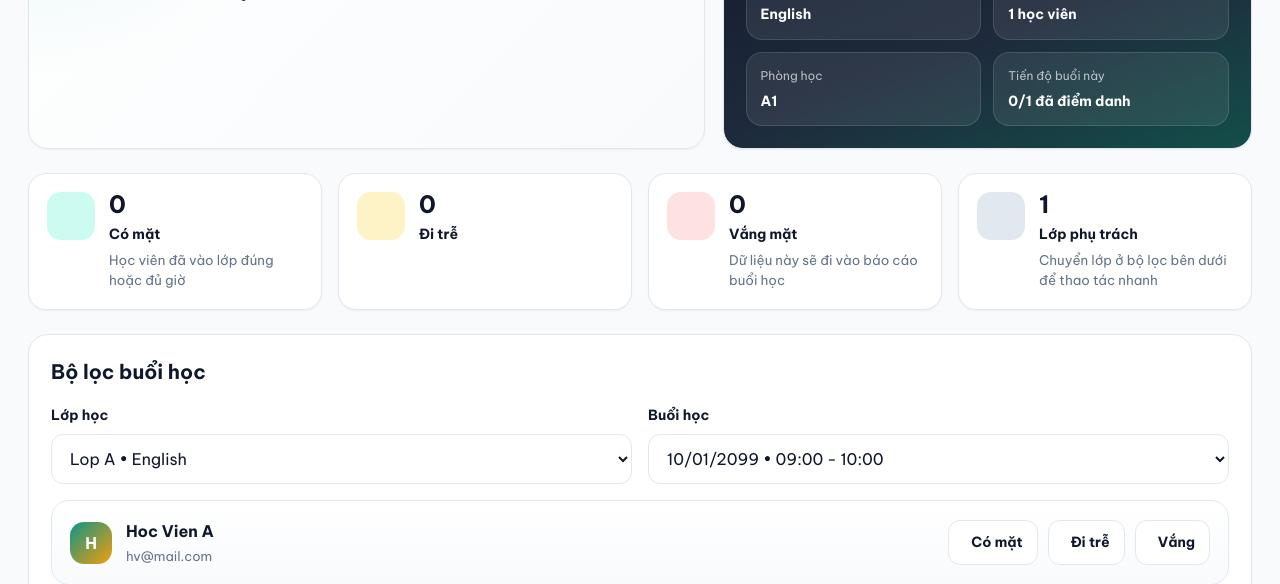
Test: TeacherAttendancePage › load danh sach va diem danh
(page scrolled)
Expected: the text "Hoc Vien A" is shown once, [126,519,214,543]
Click the button "Có mặt". click: click(993, 543)
box: [948,520,1038,565]
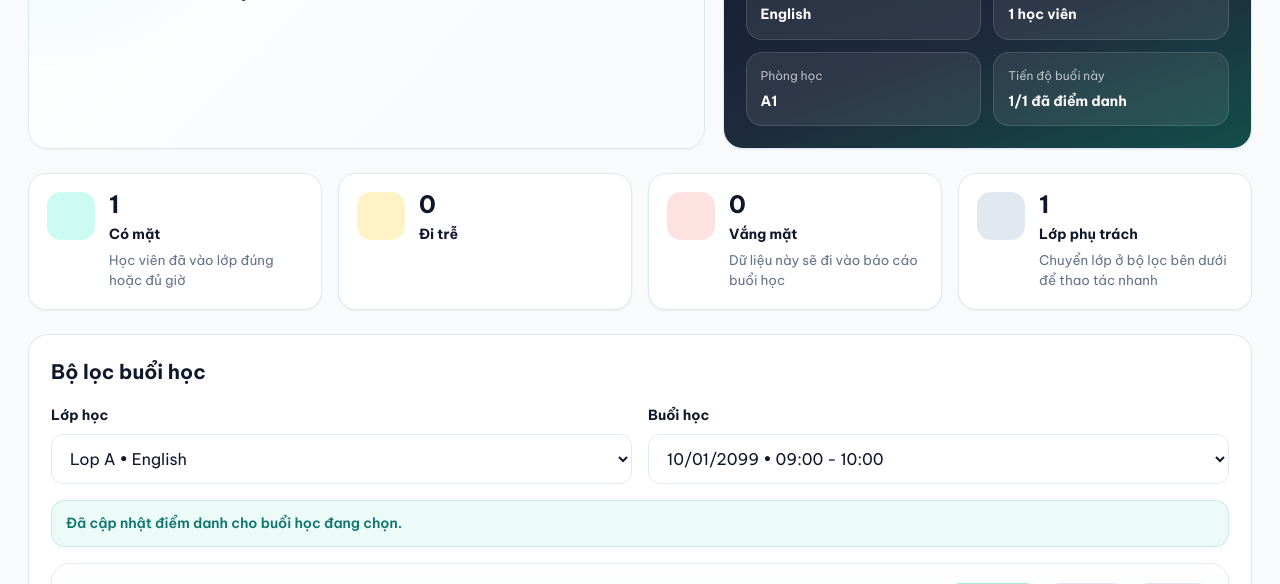
Now the text "Đã cập nhật điểm danh cho buổi học đang chọn." is shown, box [51,500,1229,547]
